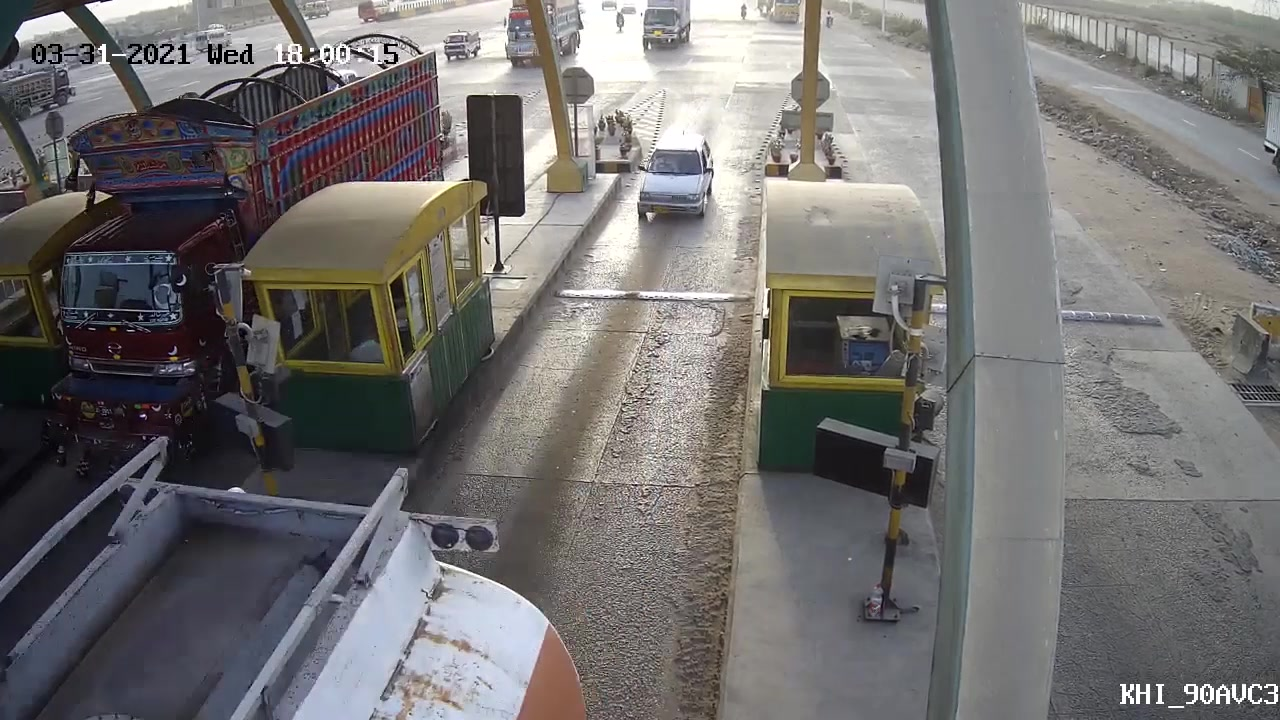F1: (616, 124, 729, 238)
